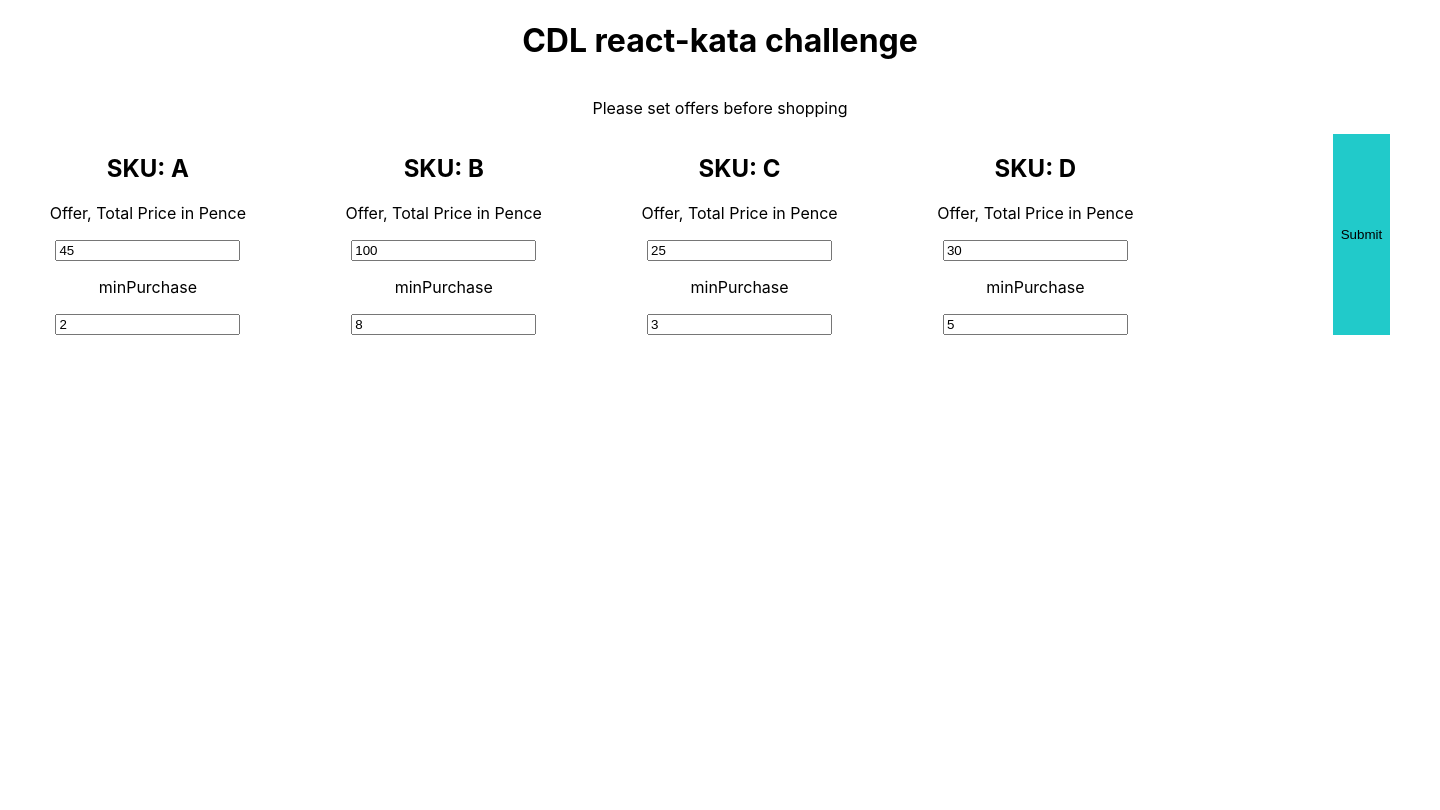
Test: <App> › should set a new minPurchase quantity for SKU A when minPurchase is changed and submit button pressed
This screenshot has width=1440, height=810.
// ** Act **
Replace the text in the number field named "A minimum purchase input" with "8" at (148, 324), box [55,314,240,335]
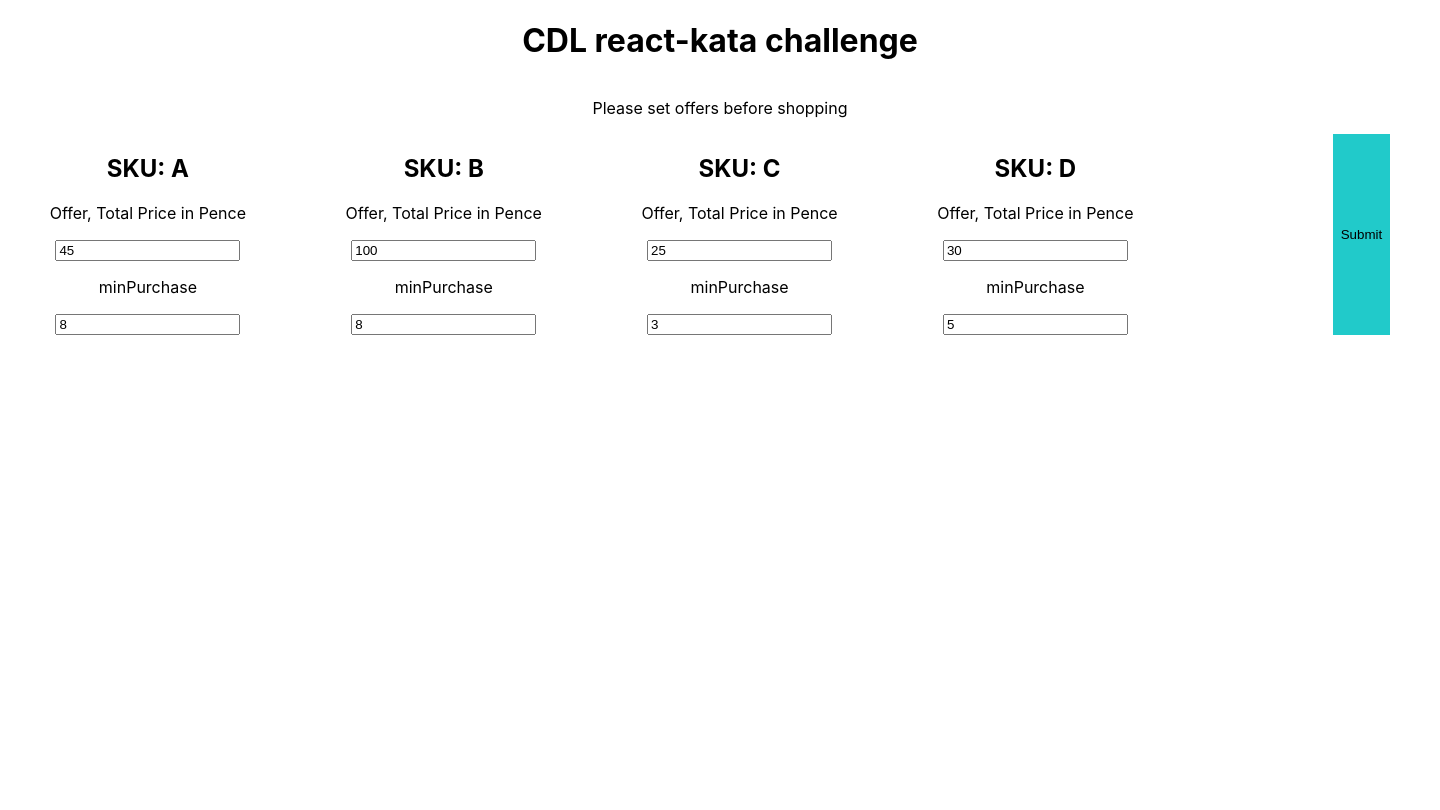
Click the button.
click(1361, 234)  # box [1333,134,1390,335]
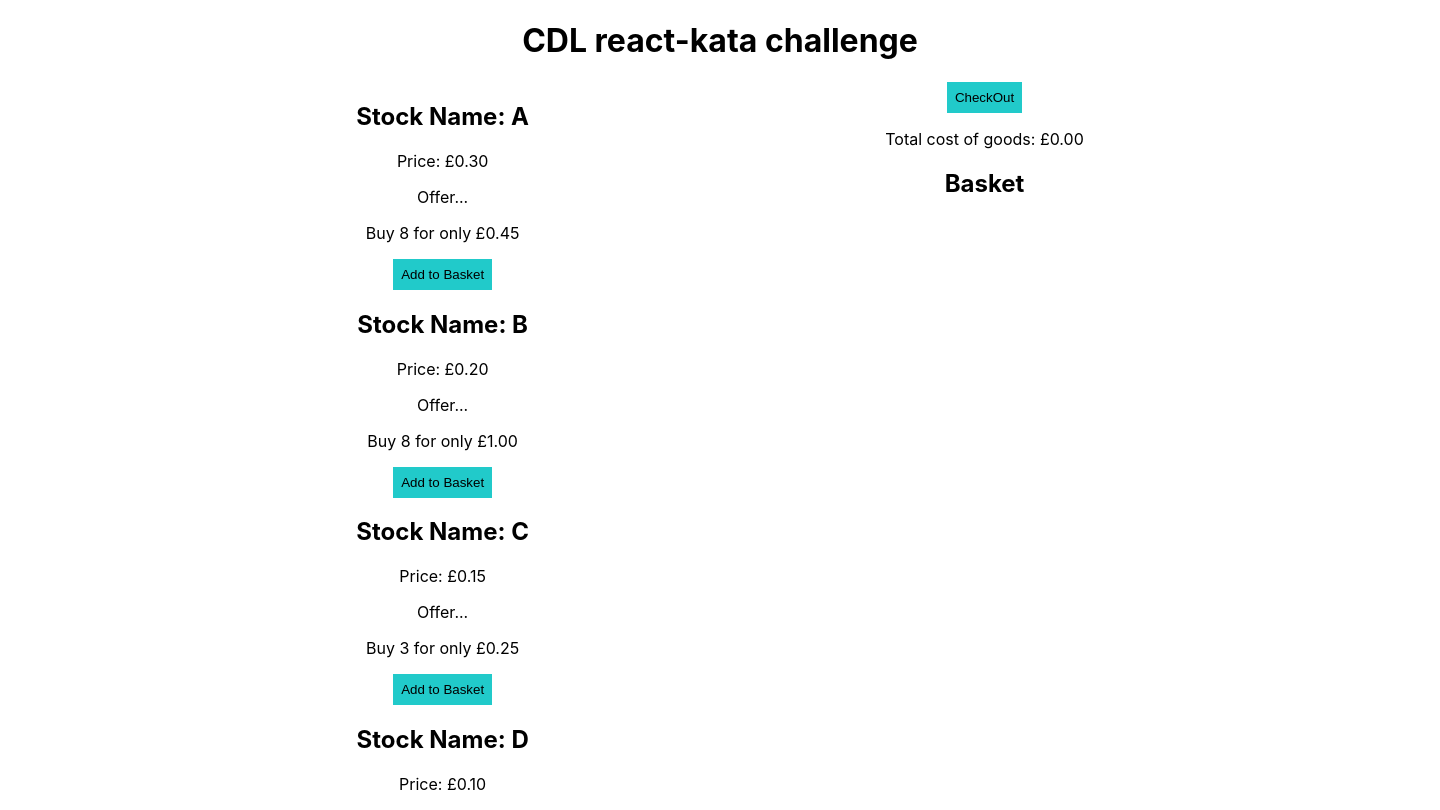
Expected: the text named "A offer" reads "Buy 8 for only £0.45", [366,223,520,243]
